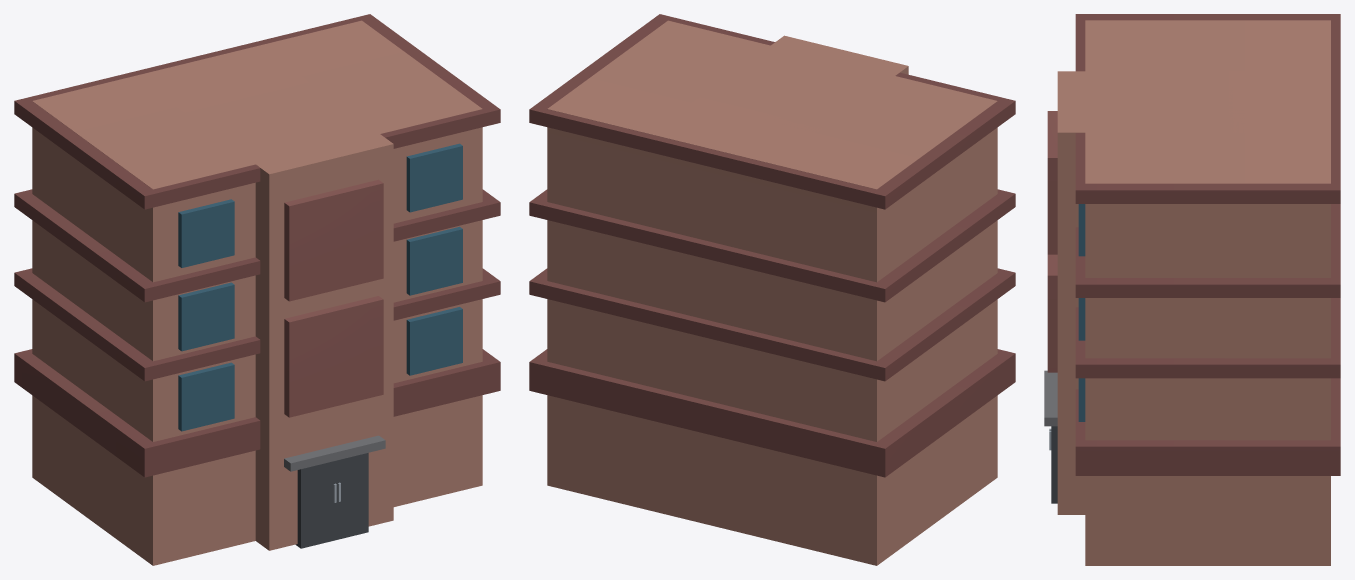
File: Building_07.fbx
3 renders of one model, left to right at view 1: azimuth 30°, elevation 25°; view 2: azimuth 150°, elevation 25°; view 3: azimuth 270°, elevation 25°, orthographic.
Parts seen in each view (by area): view 1: pCube379; view 2: pCube379; view 3: pCube379.
Part boxes in pixels (x1,y1,x2,y2): pCube379: (14, 14, 500, 565); pCube379: (529, 14, 1015, 565); pCube379: (1044, 14, 1340, 565).
Size of the model in its own units: 2.39 by 2.43 by 1.7.
